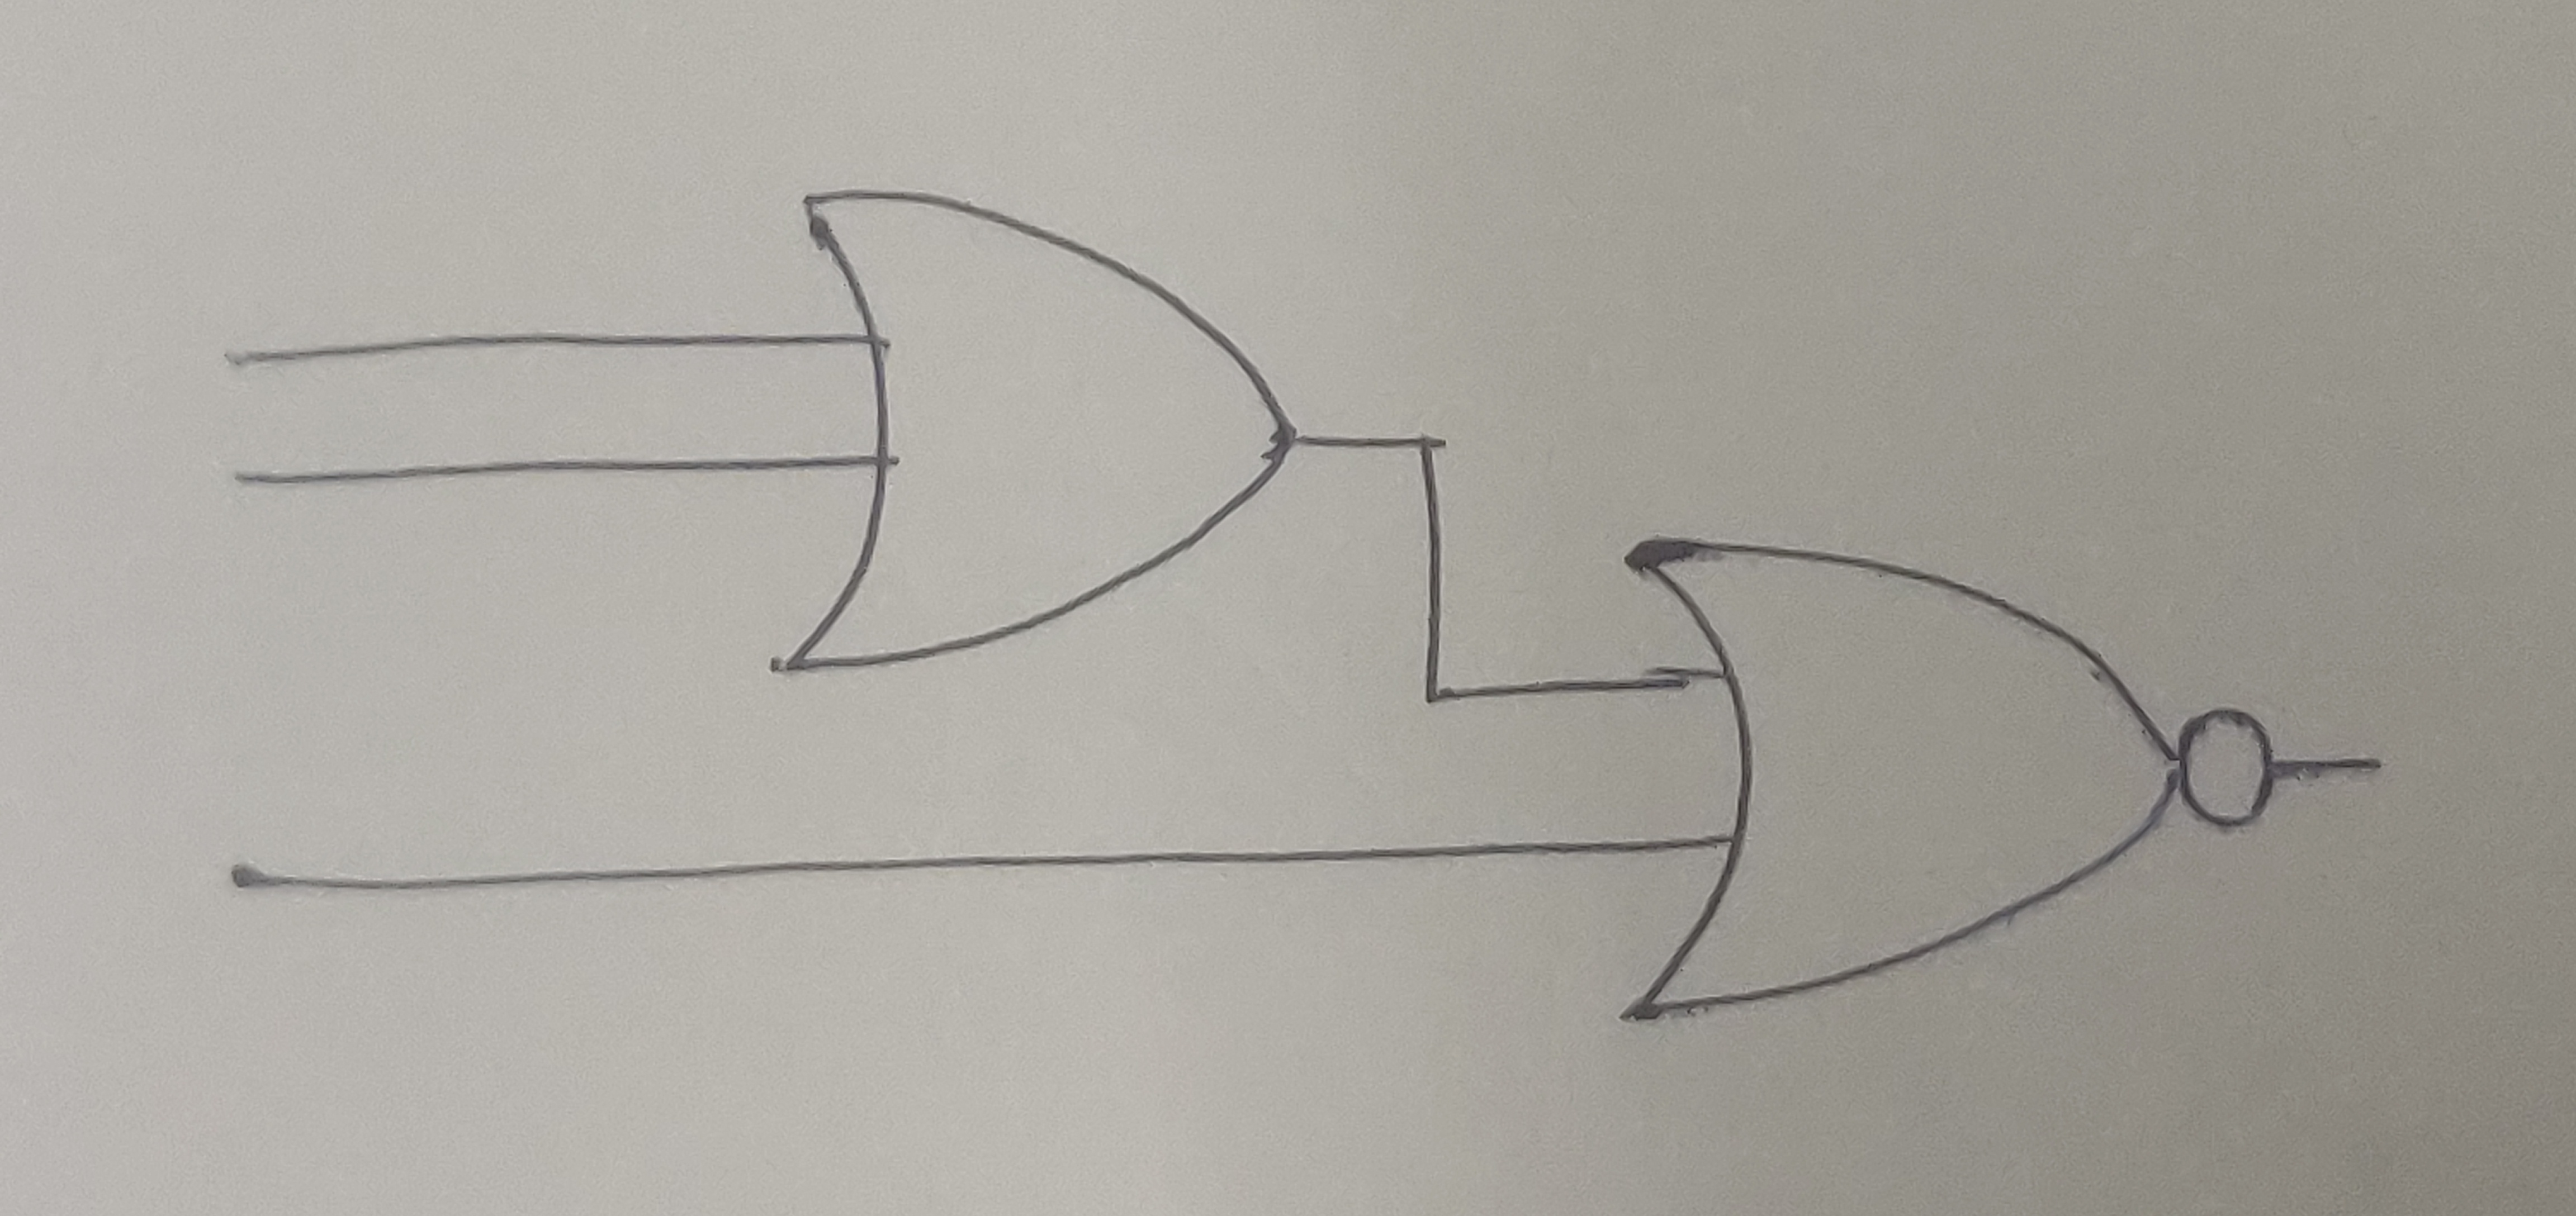not: (2175, 703, 2277, 838)
or: (1623, 539, 2192, 1019), (779, 184, 1304, 677)
